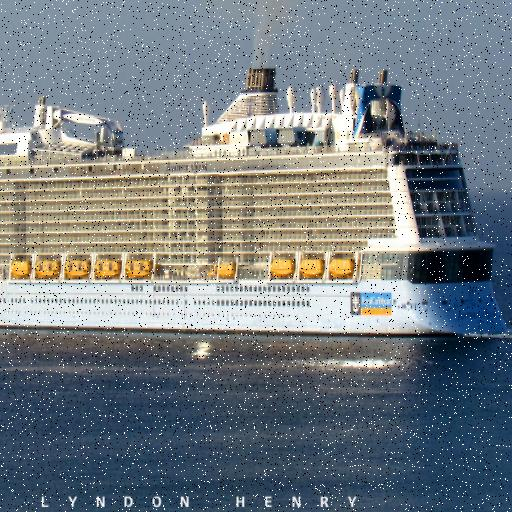cruises: (1, 64, 512, 348)
